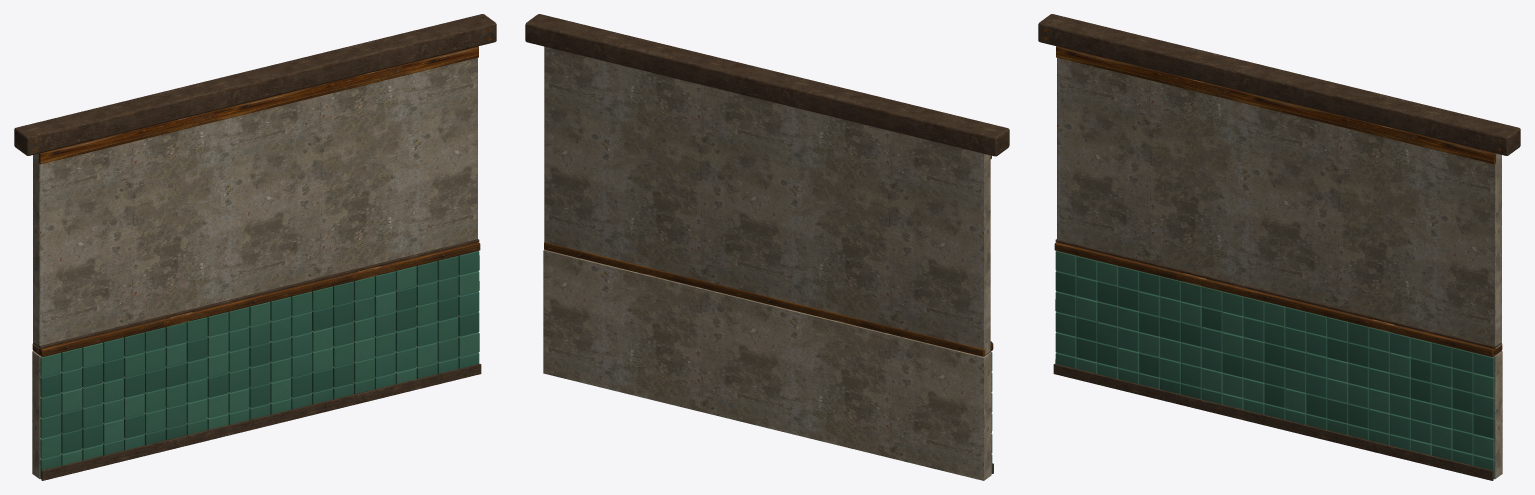
Rendered from ENV_WarmWood_Wall_Side.glb.
3 views of the same model, side by side, from view 1: azimuth 30°, elevation 25°; view 2: azimuth 150°, elevation 25°; view 3: azimuth 330°, elevation 25° (orthographic).
Parts seen in each view (by area): view 1: ENV_WarmWood_Wall_Side; view 2: ENV_WarmWood_Wall_Side; view 3: ENV_WarmWood_Wall_Side.
Part boxes in pixels (x1,y1,x2,y2): ENV_WarmWood_Wall_Side: [14, 14, 496, 480]; ENV_WarmWood_Wall_Side: [525, 14, 1009, 480]; ENV_WarmWood_Wall_Side: [1038, 14, 1520, 480].
Size of the model in its own units: 4.5 by 3.18 by 0.24.
Materials: 9 (9 with a texture image).
